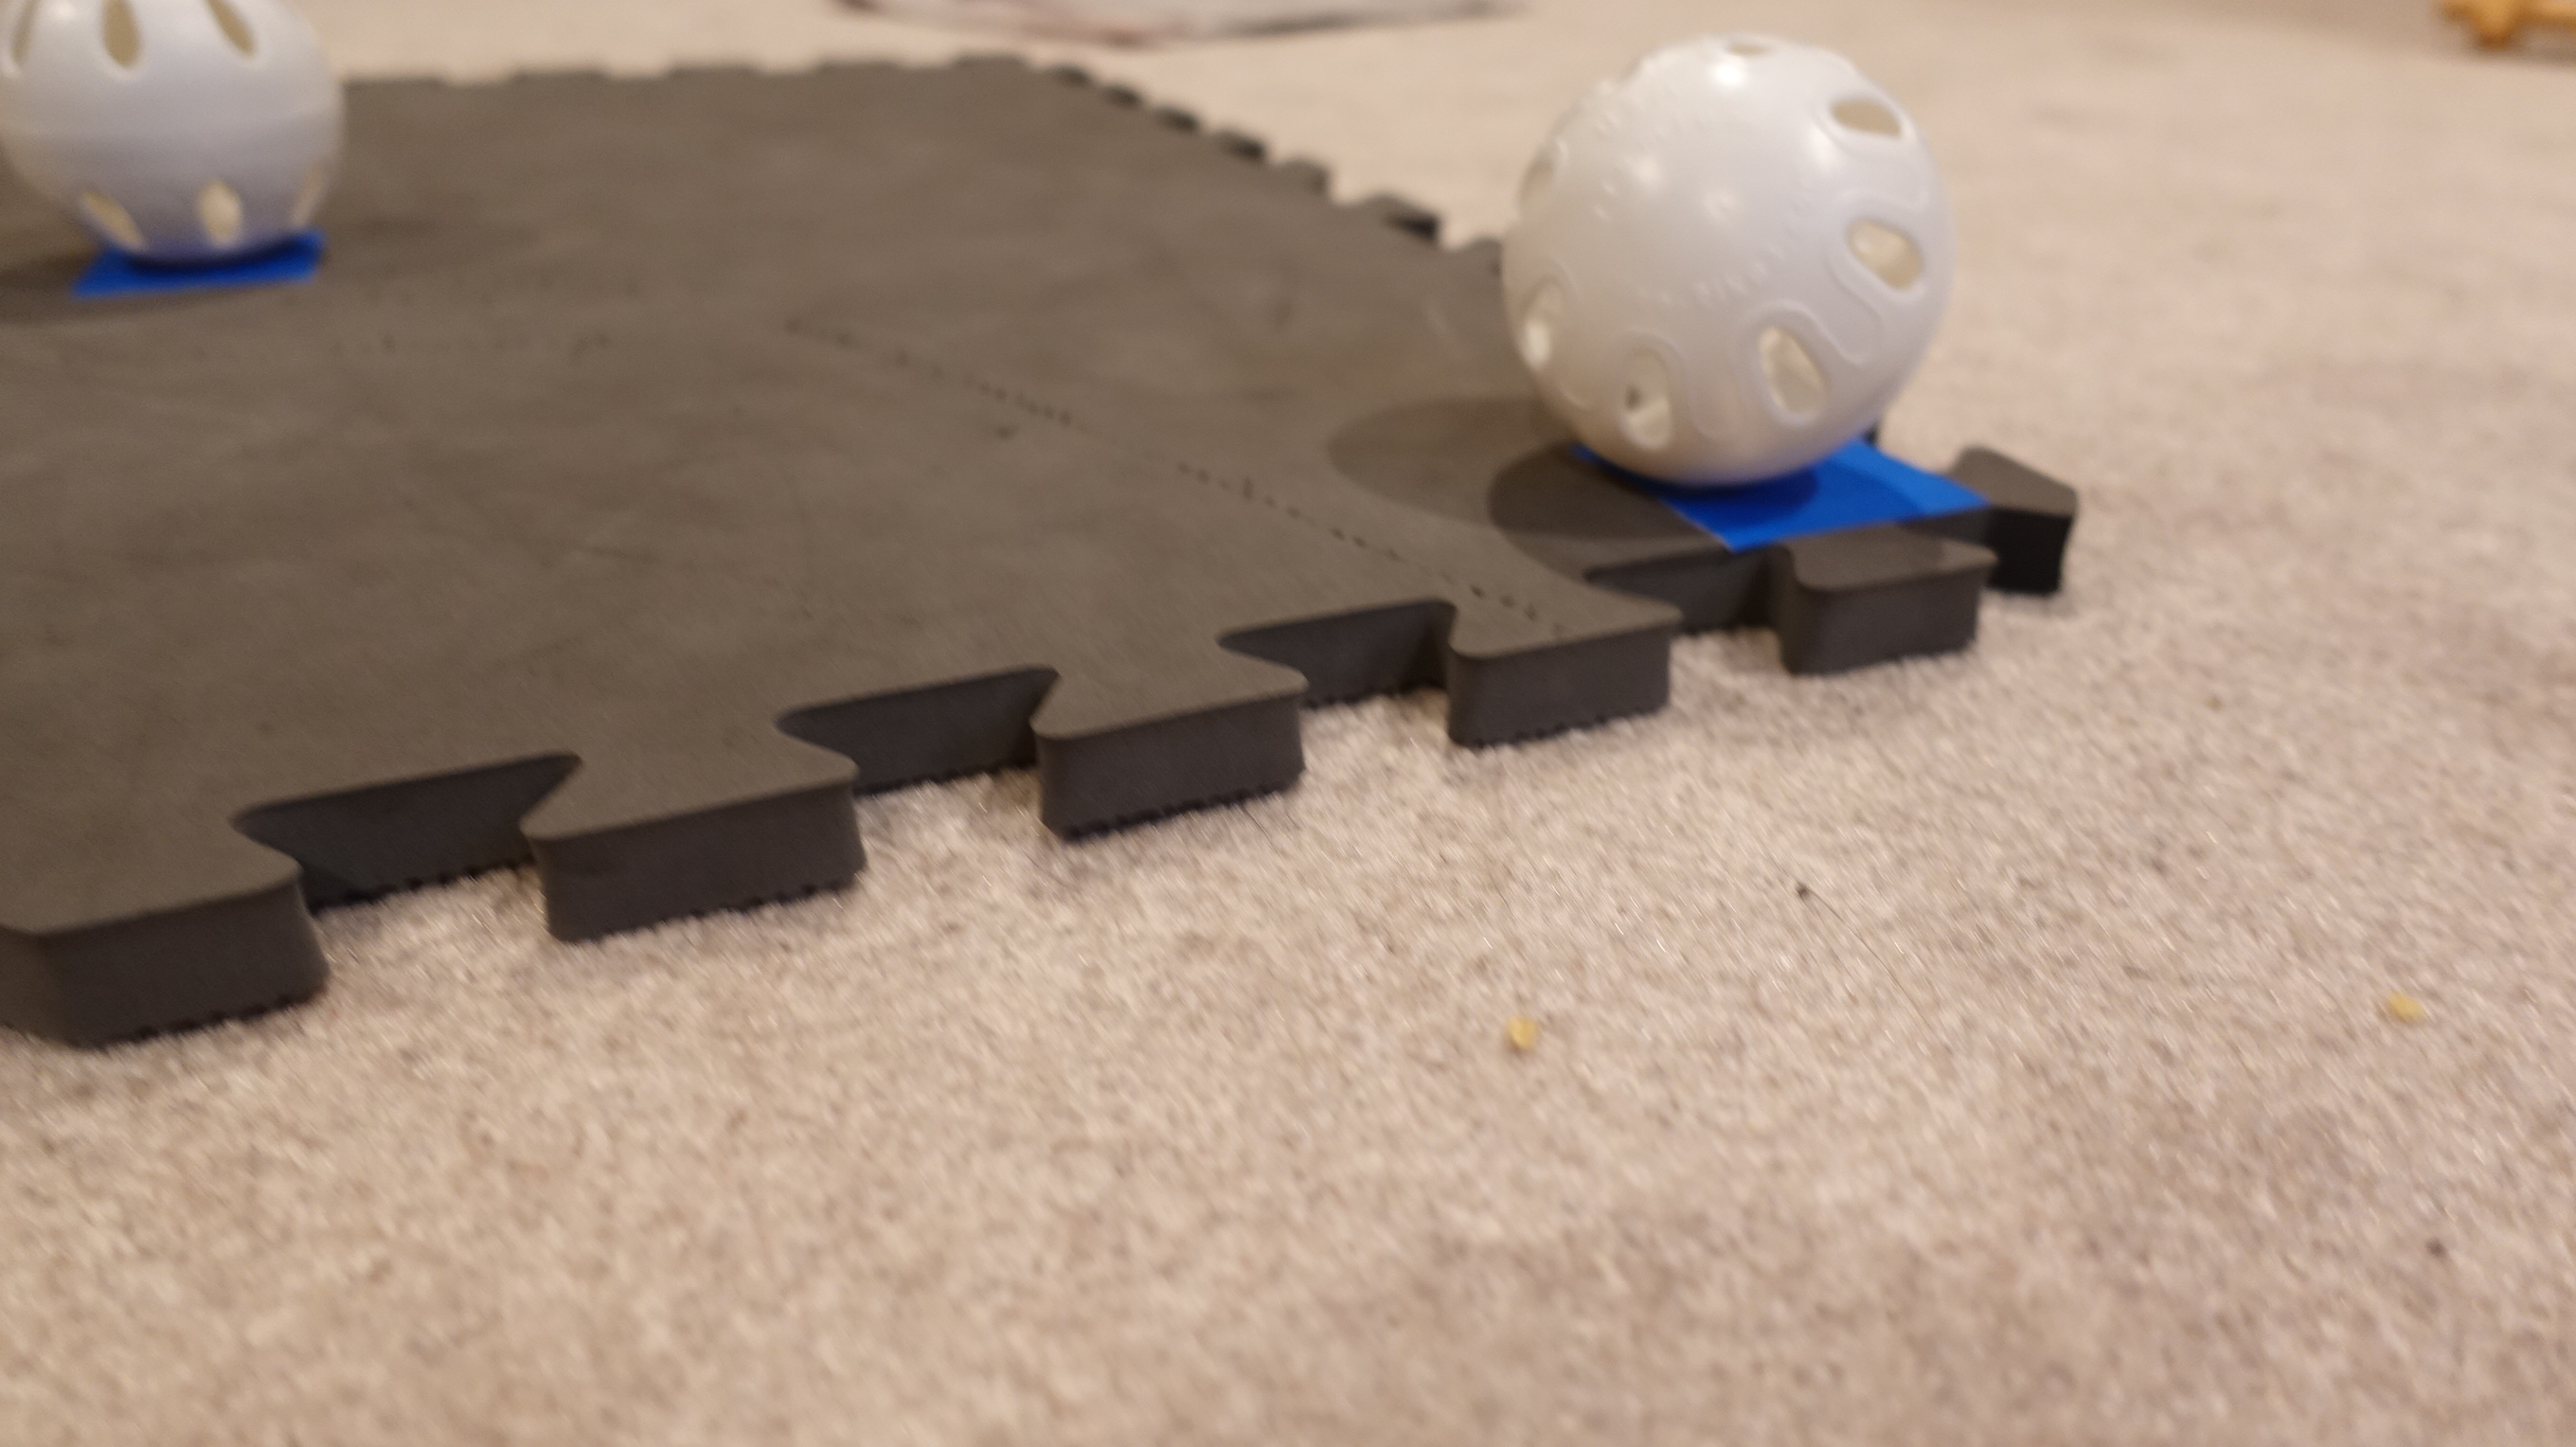silver: (1474, 37, 1966, 494), (2, 5, 347, 274)
